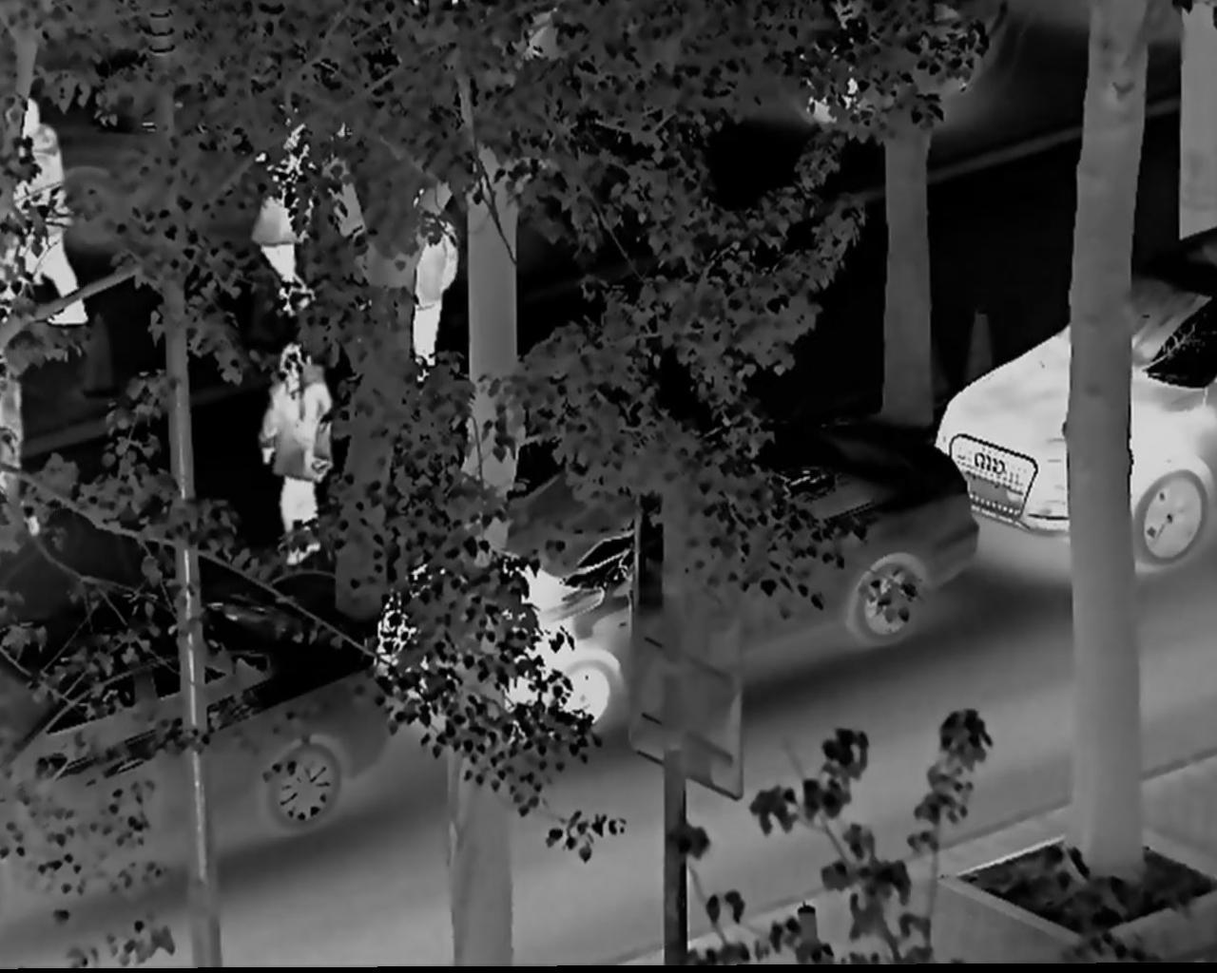person: (10, 93, 95, 339), (246, 337, 336, 567)
